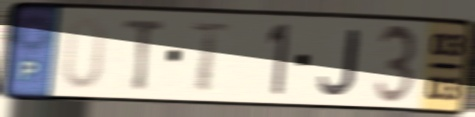0: (59, 14, 110, 93)
1: (264, 21, 291, 99)
3: (371, 21, 421, 107)
J: (316, 27, 361, 98)
T: (121, 16, 169, 94), (187, 20, 235, 95)
